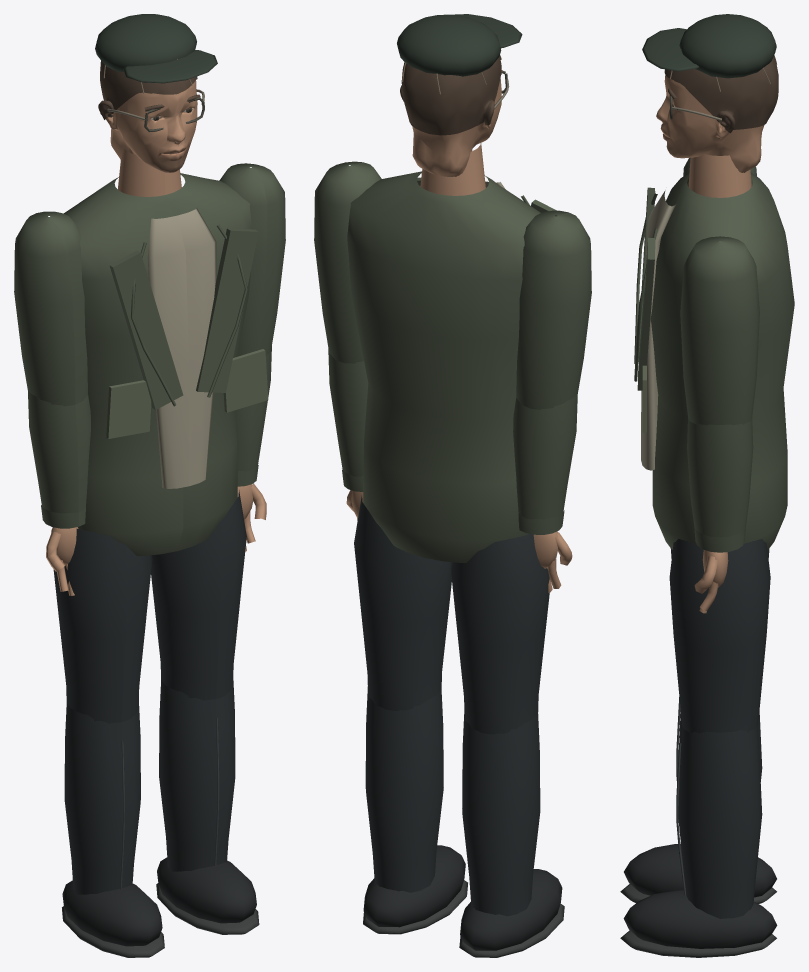
Rendered from mr-robot.glb.
The picture shows the model from 3 angles, left to right: view 1: azimuth 30°, elevation 25°; view 2: azimuth 150°, elevation 25°; view 3: azimuth 270°, elevation 25°; orthographic projection. The views are drawn at different scales.
Visible parts, largest first — view 1: Torso, TrouserThigh (×2), TrouserCalf (×2), TailoredSleeve (×2), ShirtFront, Shoe (×2), Head, LeftForearm, AnatomicalFace, Sole (×2), RightForearm, Neck (+2 smaller); view 2: Torso, TrouserThigh (×2), TrouserCalf (×2), TailoredSleeve (×2), Head, Shoe (×2), LeftForearm, RightForearm, AnatomicalFace, Sole (×2), Neck, LeftHand; view 3: Torso, TrouserThigh, TrouserCalf, TailoredSleeve, Head, Shoe (×2), RightForearm, AnatomicalFace, ShirtFront, Neck, Sole (×2), RightHand (+1 smaller).
Boxes of the visible parts, x1,y1,x2,y2 form: Torso: (64,173,268,555); TrouserThigh (×2): (53,490,246,723); TrouserCalf (×2): (64,680,235,894); TailoredSleeve (×2): (14,163,285,406); ShirtFront: (147,208,216,488); Shoe (×2): (62,857,256,946); Head: (95,14,217,132); LeftForearm: (28,390,90,528); AnatomicalFace: (106,80,197,172); Sole (×2): (62,883,259,957); RightForearm: (235,346,271,486); Neck: (117,147,181,196); Torso: (347,171,556,562); TrouserThigh (×2): (354,495,549,734); TrouserCalf (×2): (365,686,540,916); TailoredSleeve (×2): (314,161,591,409); Head: (397,14,522,135); Shoe (×2): (363,845,562,950); LeftForearm: (513,393,577,534); RightForearm: (328,349,368,491); AnatomicalFace: (412,78,501,176); Sole (×2): (363,880,564,957); Neck: (420,142,485,195); LeftHand: (533,531,572,592); Torso: (634,172,794,549); TrouserThigh: (669,538,770,733); TrouserCalf: (678,725,762,918); TailoredSleeve: (680,236,759,425); Head: (642,14,778,133); Shoe (×2): (623,843,777,948); RightForearm: (687,417,753,552); AnatomicalFace: (656,75,764,172); ShirtFront: (641,190,676,470); Neck: (688,154,751,197); Sole (×2): (620,884,776,957); RightHand: (694,550,728,613).
Bounding box in the file's own units: 0.5433 × 1.78 × 0.311.
